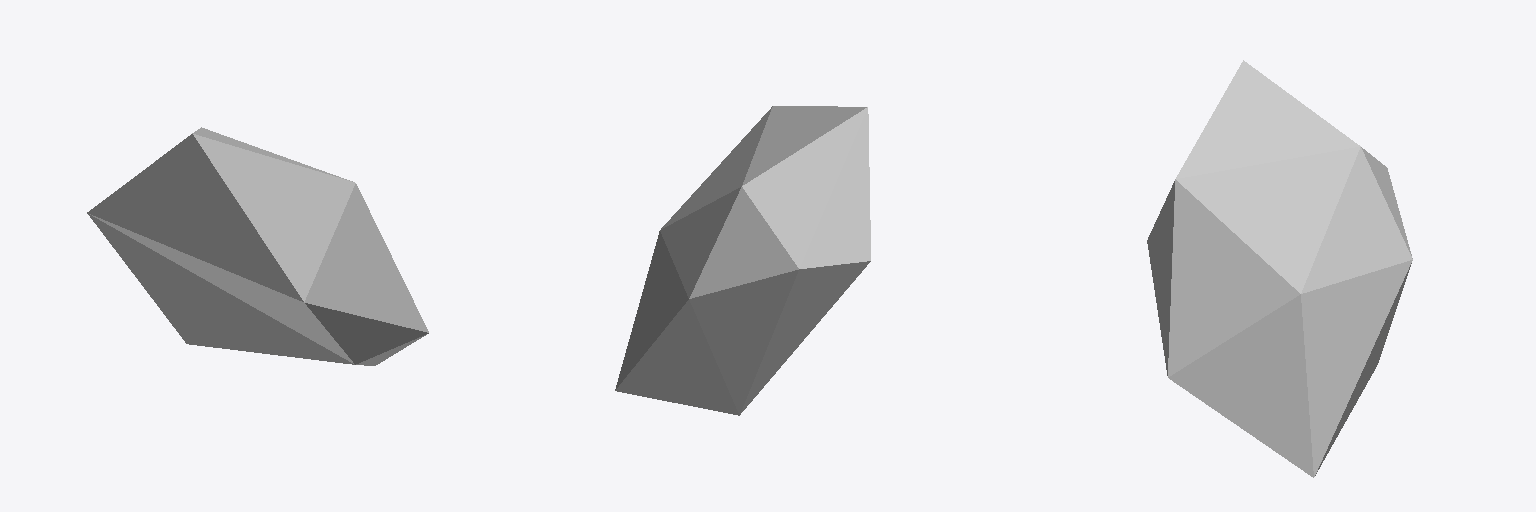
Rendered from astrd_1.obj.
The picture shows the model from 3 angles: view 1: azimuth 30°, elevation 25°; view 2: azimuth 150°, elevation 25°; view 3: azimuth 270°, elevation 25°; orthographic projection.
Visible parts, largest first — view 1: GeoSpher33; view 2: GeoSpher33; view 3: GeoSpher33.
Part boxes in pixels (bbox=[...]): GeoSpher33: bbox=[87, 127, 428, 365]; GeoSpher33: bbox=[615, 106, 870, 415]; GeoSpher33: bbox=[1147, 60, 1412, 477].
Size of the model in its own units: 5.59 by 6.12 by 4.73.